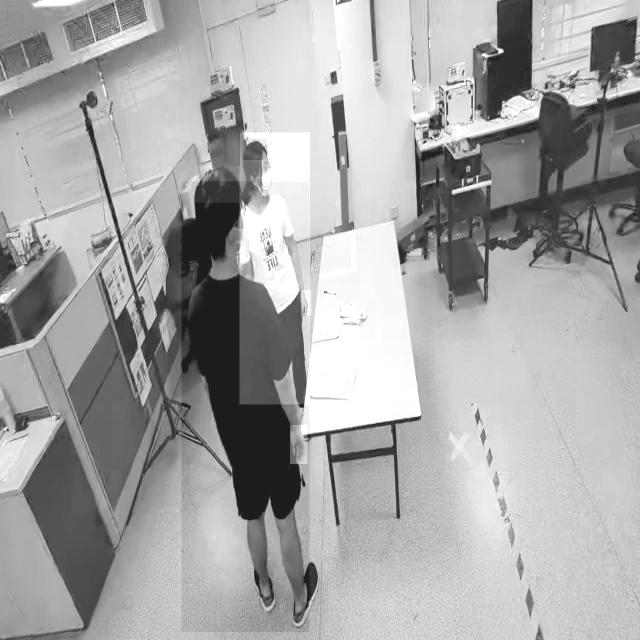face_mask: (260, 156, 276, 200)
hand_noglove: (290, 425, 308, 465), (300, 290, 312, 316)
head_nohelmet: (194, 166, 241, 204), (243, 139, 267, 161)
person: (181, 181, 309, 633), (240, 133, 310, 404)
shoes: (292, 555, 323, 630), (251, 556, 279, 616)
